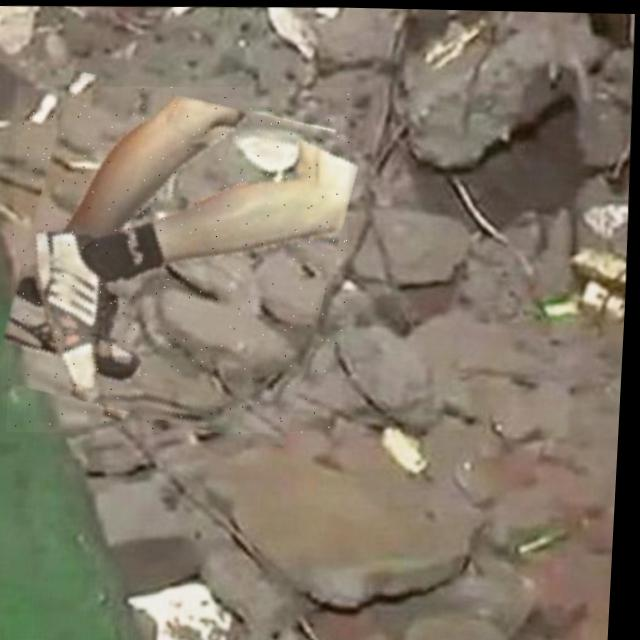Person in Rubble: (4, 79, 359, 437)
